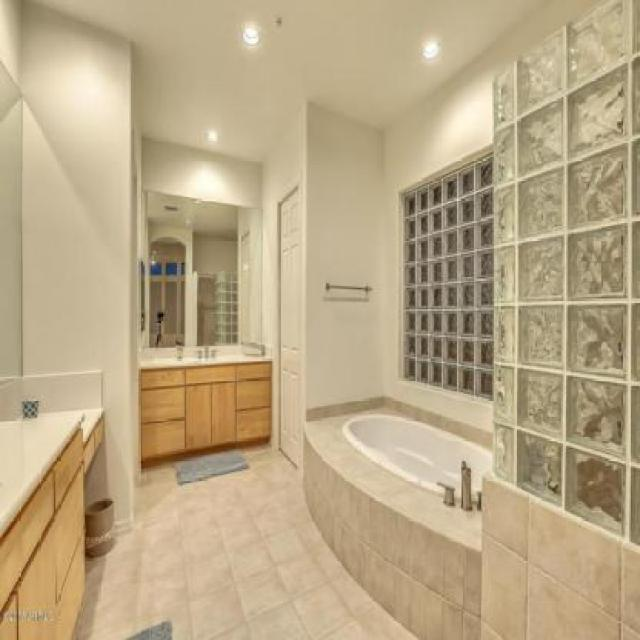Floor: (75, 443, 418, 639)
